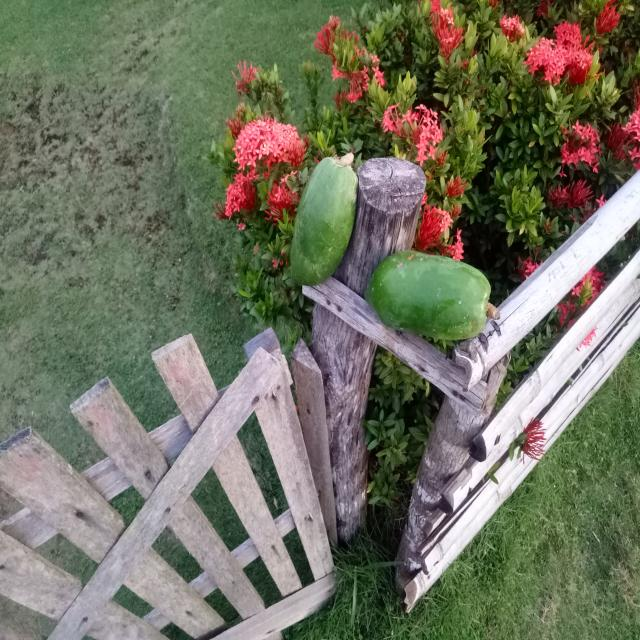Pepaya unrippen: (362, 243, 496, 352), (287, 153, 355, 290)
